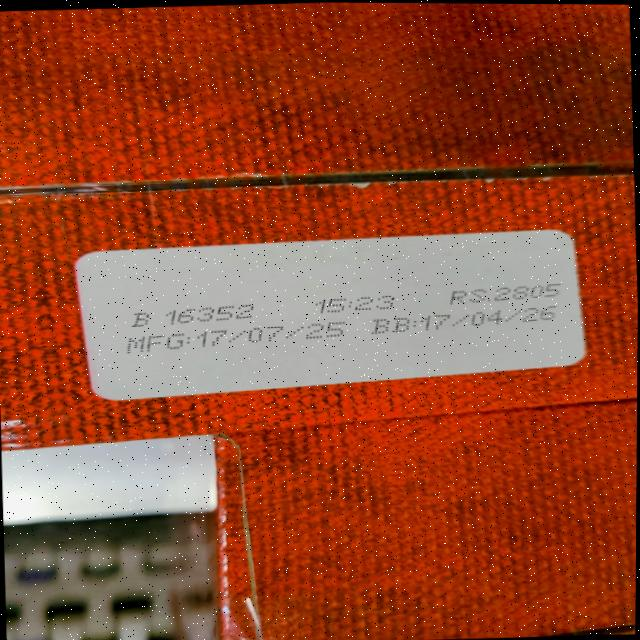BB: (370, 302, 578, 336)
Batch: (129, 300, 263, 327)
MFG: (126, 317, 365, 355)
RS: (440, 282, 566, 305)
TimeStamp: (313, 293, 398, 313)
